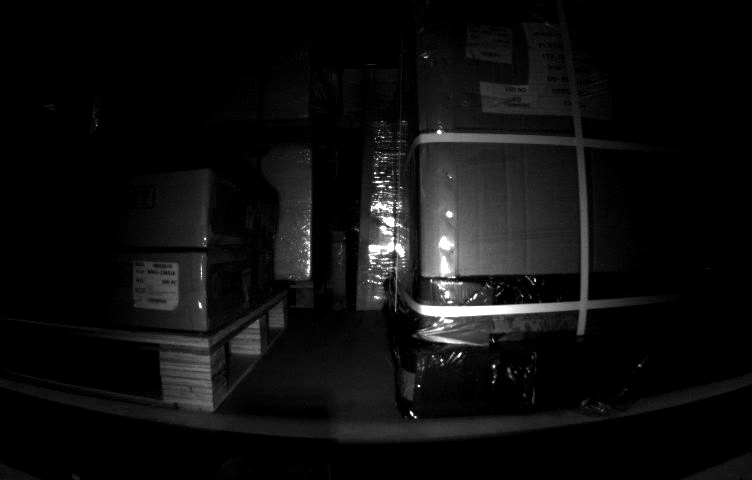True Barcode: (132, 262, 182, 311), (467, 22, 514, 64)
